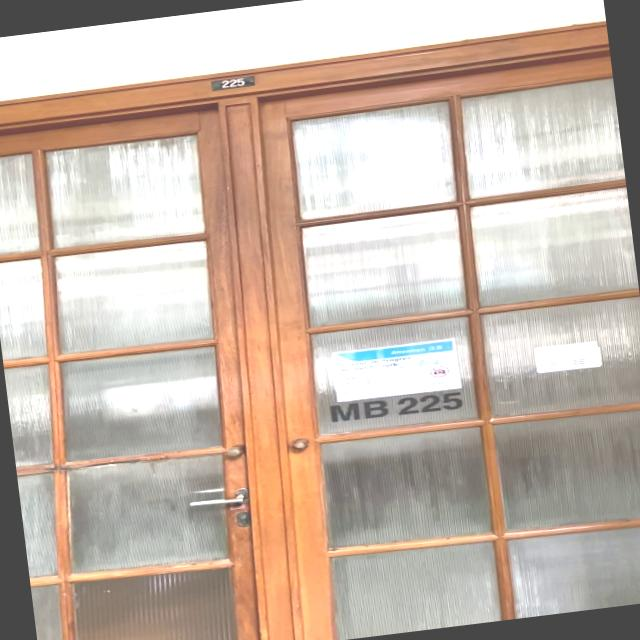room225: (204, 75, 256, 92)
room225Window: (323, 387, 468, 428)
